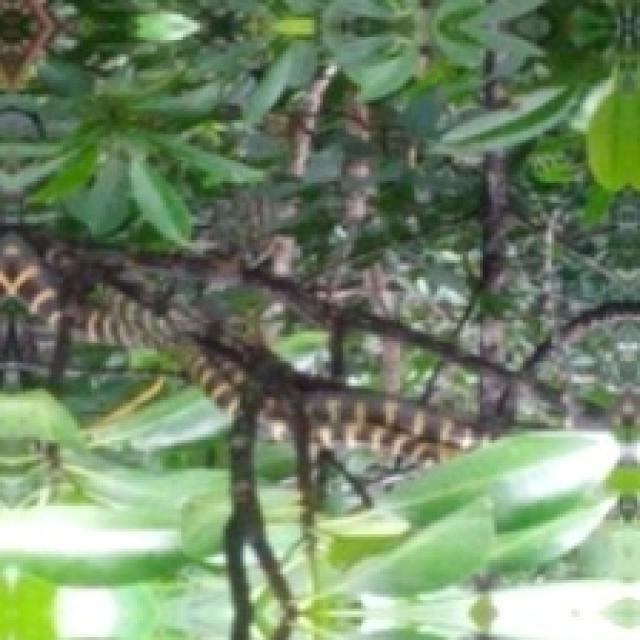mangrove cat snake: (0, 226, 243, 463), (206, 263, 489, 466)
